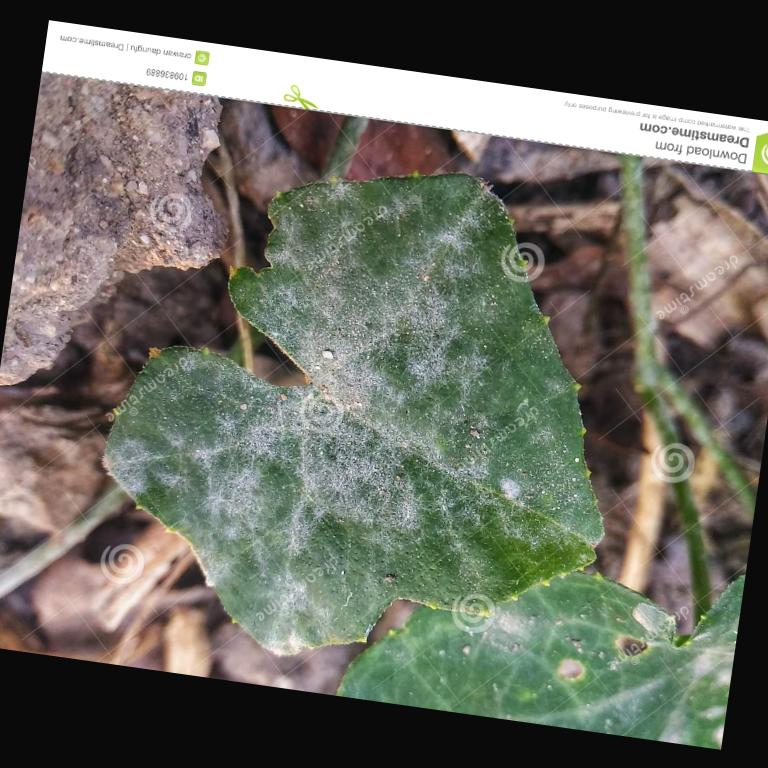powdery-mildew: (290, 224, 494, 413), (136, 372, 294, 550)
